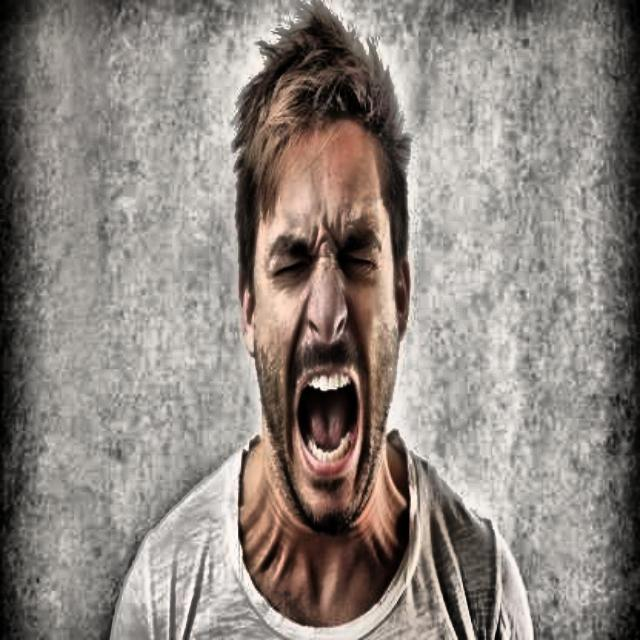angry: (233, 3, 428, 570)
